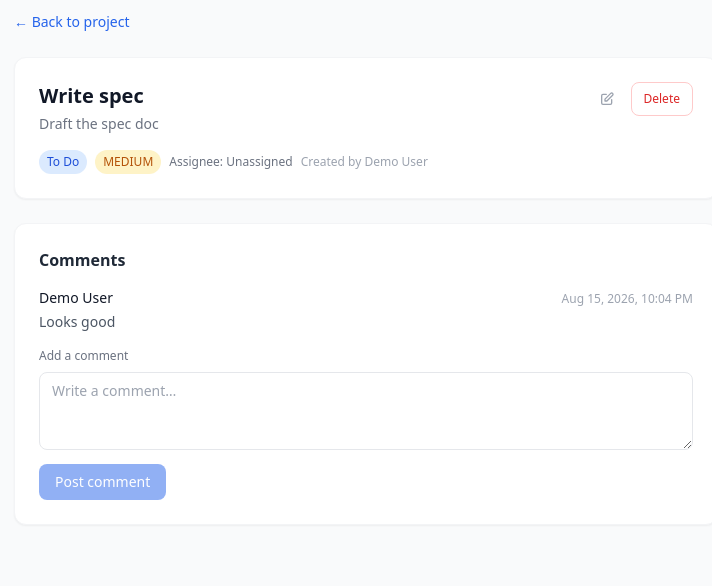
Test: TaskDetail › adds a comment through the CommentThread
This screenshot has width=712, height=586.
Expected: the heading "Write spec" is shown, [39, 82, 159, 110]
Type "New comment here" into the text box labelled "Add a comment" at (366, 411), box [39, 372, 693, 450]
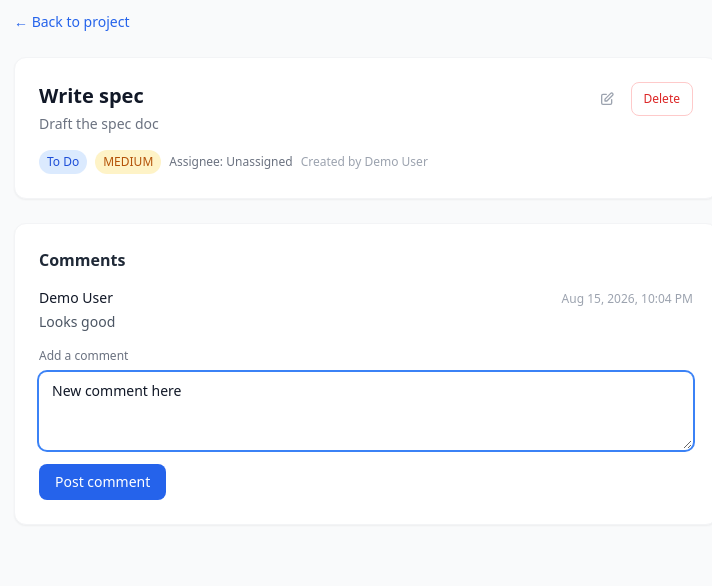
Click the button "Post comment" at (103, 482), box [39, 464, 166, 500]
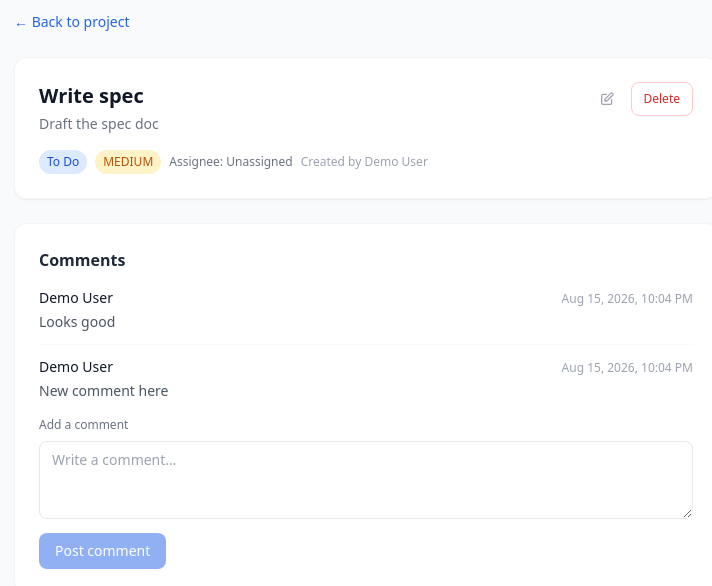
Now the text "New comment here" is shown, box [39, 381, 168, 400]
